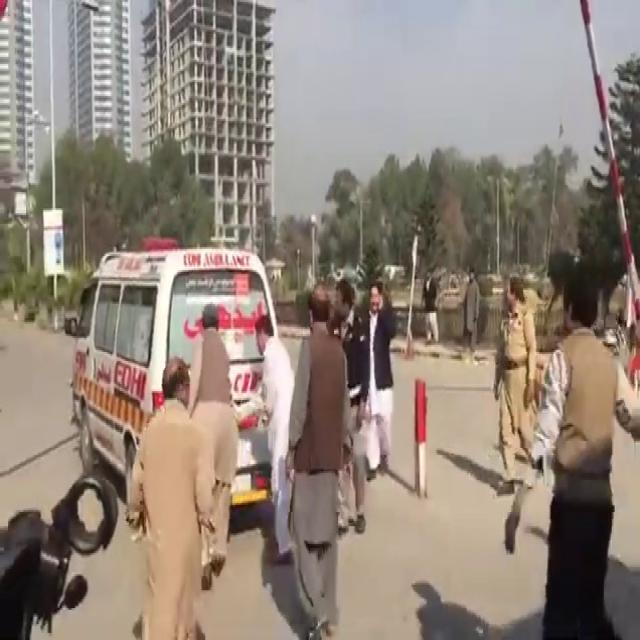ambulance: (67, 256, 316, 510)
